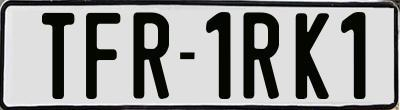1: (339, 12, 370, 104), (205, 12, 232, 104)
F: (85, 11, 123, 100)
K: (293, 10, 328, 102)
R: (240, 11, 277, 103), (132, 11, 169, 100)
T: (41, 13, 77, 100)
